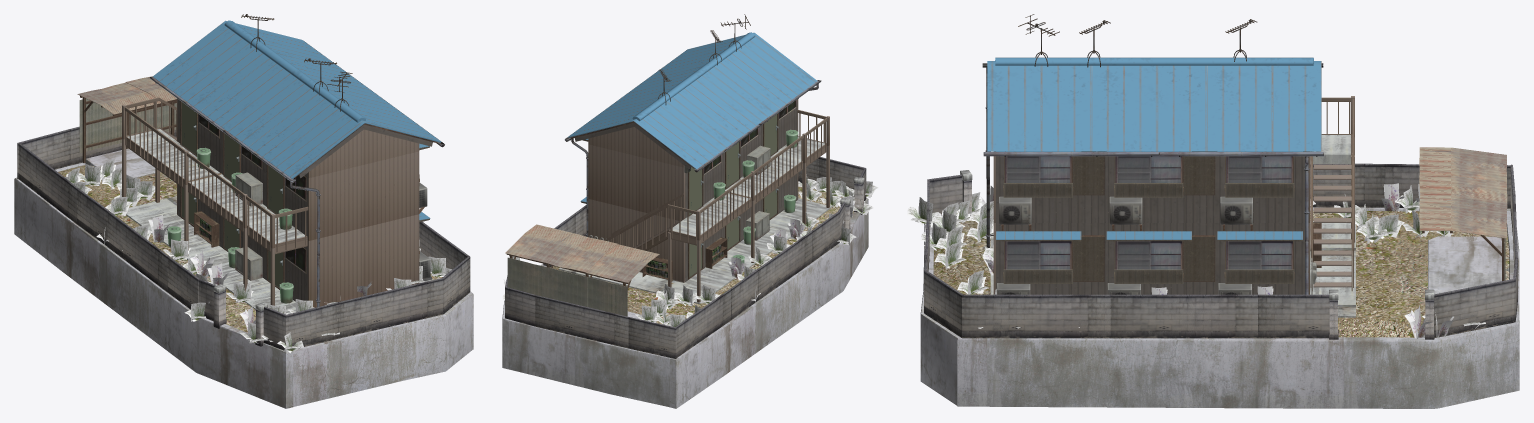
The model's file is houseset13.fbx.
3 views of the same model, side by side, from view 1: azimuth 30°, elevation 25°; view 2: azimuth 150°, elevation 25°; view 3: azimuth 270°, elevation 25° (orthographic). The views are drawn at different scales.
Parts seen in each view (by area): view 1: houseset13; view 2: houseset13; view 3: houseset13.
Boxes of the visible parts, x1,y1,x2,y2 form: houseset13: (14, 14, 473, 408); houseset13: (502, 14, 878, 408); houseset13: (907, 14, 1519, 408).
Size of the model in its own units: 893 by 1595 by 950.
14 materials, 14 textured.
